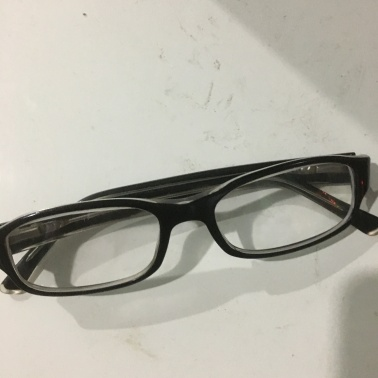glasses: (23, 170, 354, 291)
